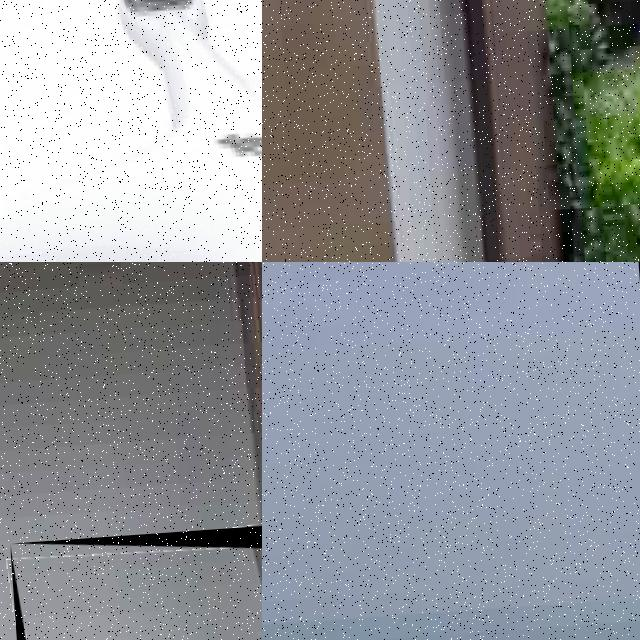drone: (0, 0, 262, 262), (9, 521, 262, 640)
